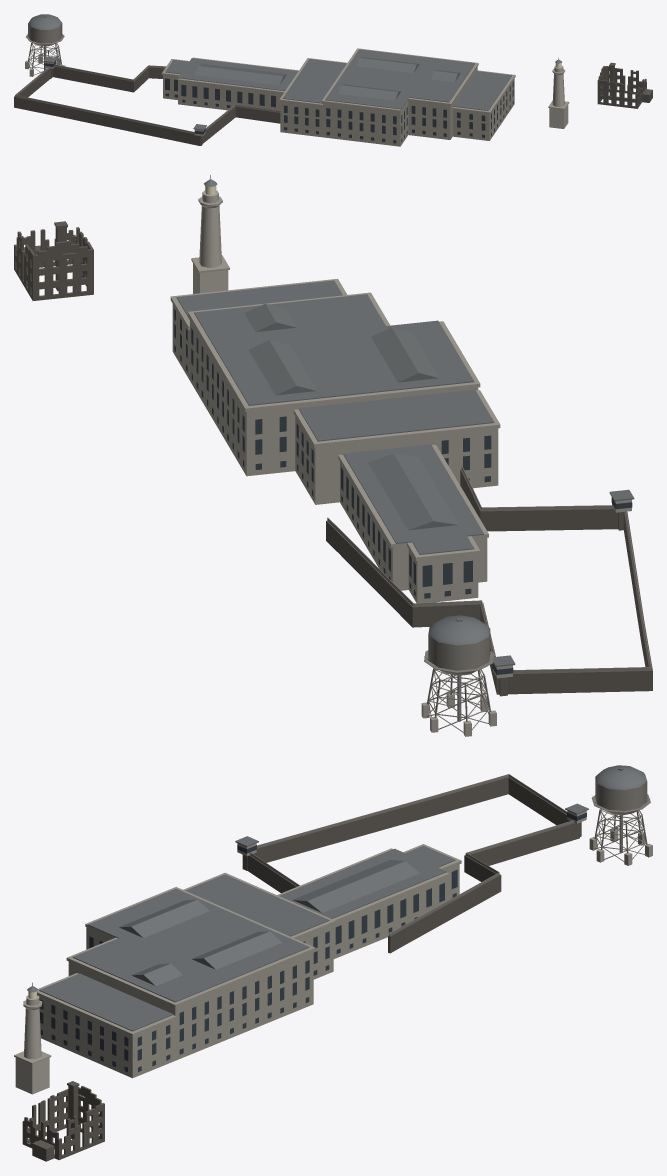
Rendered from alcatraz-island-far.glb.
3 views of the same model, one above another, from view 1: azimuth 30°, elevation 25°; view 2: azimuth 150°, elevation 25°; view 3: azimuth 270°, elevation 25° (orthographic). The views are drawn at different scales.
Parts seen in each view (by area): view 1: alcatraz-island-0-roof, alcatraz-island-0-stone, alcatraz-island-0-ruin, alcatraz-island-0-glass, alcatraz-island-0-steel, alcatraz-island-0-tower; view 2: alcatraz-island-0-roof, alcatraz-island-0-stone, alcatraz-island-0-ruin, alcatraz-island-0-steel, alcatraz-island-0-glass, alcatraz-island-0-tower; view 3: alcatraz-island-0-roof, alcatraz-island-0-stone, alcatraz-island-0-ruin, alcatraz-island-0-glass, alcatraz-island-0-steel, alcatraz-island-0-tower.
Part boxes in pixels (left/top/right/bottom): alcatraz-island-0-roof: left=28, top=14, right=561, bottom=130; alcatraz-island-0-stone: left=25, top=48, right=569, bottom=146; alcatraz-island-0-ruin: left=14, top=62, right=652, bottom=145; alcatraz-island-0-glass: left=44, top=61, right=513, bottom=143; alcatraz-island-0-steel: left=15, top=23, right=558, bottom=133; alcatraz-island-0-tower: left=549, top=65, right=568, bottom=128; alcatraz-island-0-roof: left=176, top=179, right=634, bottom=666; alcatraz-island-0-stone: left=170, top=196, right=631, bottom=736; alcatraz-island-0-ruin: left=14, top=221, right=652, bottom=696; alcatraz-island-0-steel: left=210, top=175, right=651, bottom=732; alcatraz-island-0-glass: left=174, top=309, right=632, bottom=674; alcatraz-island-0-tower: left=193, top=190, right=228, bottom=293; alcatraz-island-0-roof: left=27, top=765, right=646, bottom=1031; alcatraz-island-0-stone: left=14, top=810, right=652, bottom=1078; alcatraz-island-0-ruin: left=22, top=777, right=581, bottom=1161; alcatraz-island-0-glass: left=39, top=812, right=586, bottom=1072; alcatraz-island-0-steel: left=32, top=774, right=650, bottom=985; alcatraz-island-0-tower: left=15, top=995, right=49, bottom=1094.
Size of the model in its own units: 218 by 31.41 by 159.
